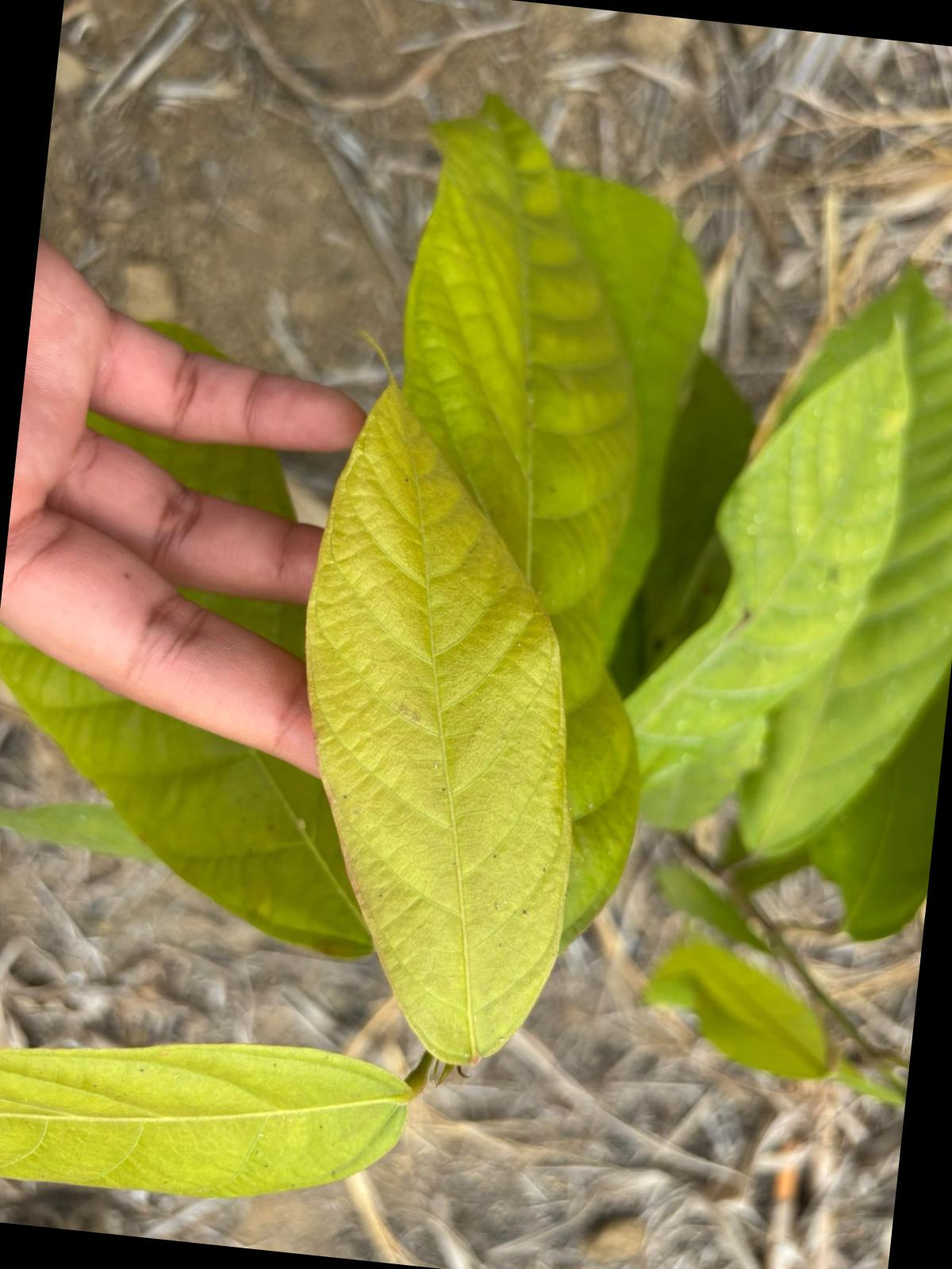Nitrogeno: (306, 385, 571, 1063), (0, 1044, 412, 1198)
